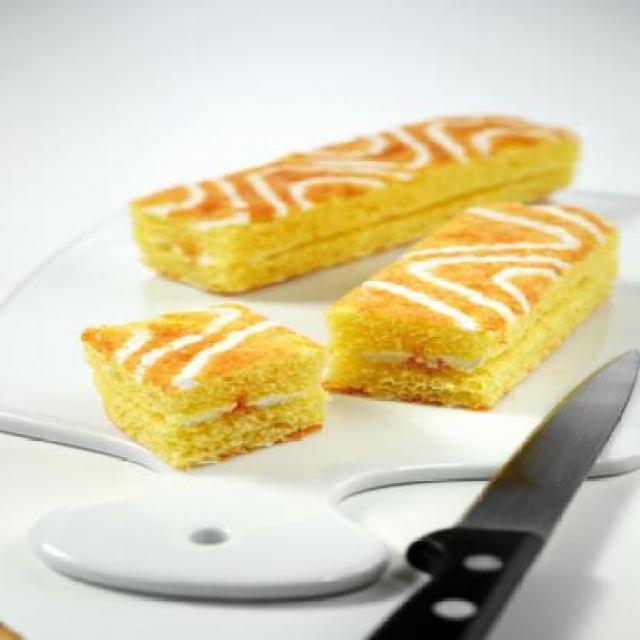Merendine packaged: (126, 112, 588, 296), (324, 198, 620, 412), (74, 300, 338, 471)
